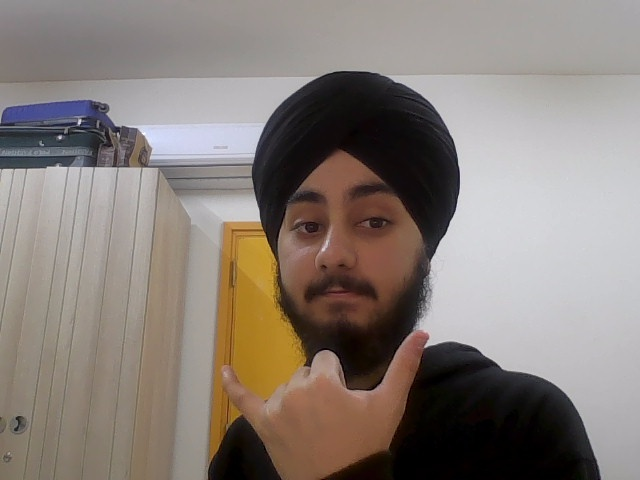Wrong: (220, 327, 431, 479)
